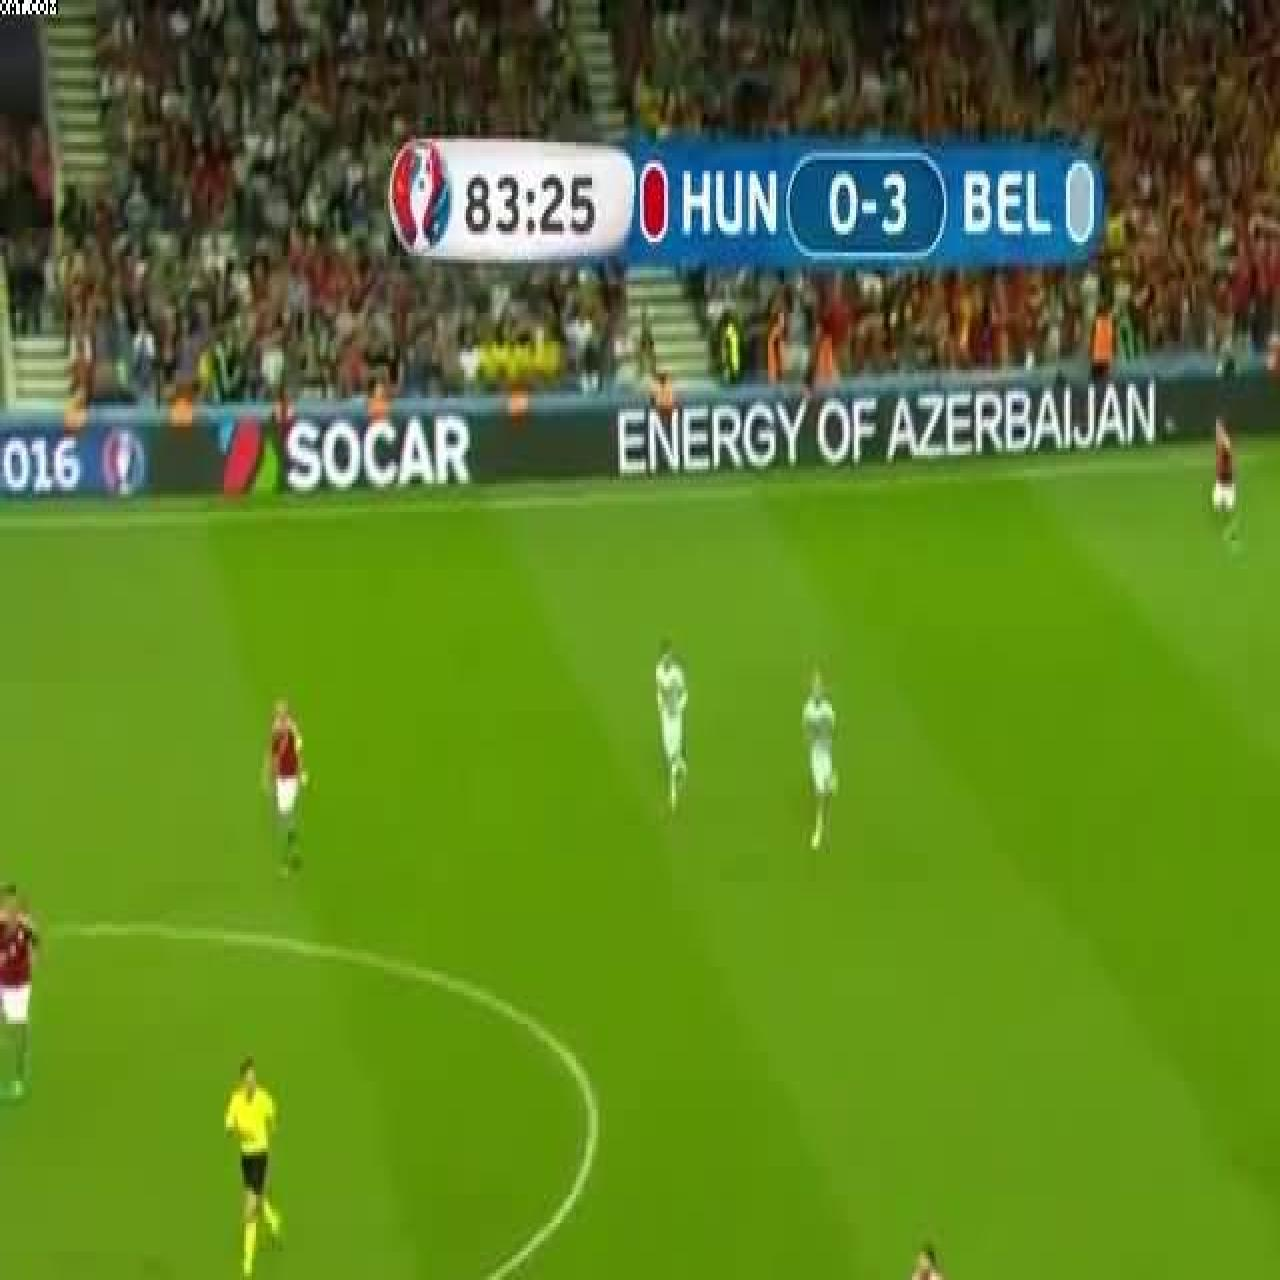football: (224, 1056, 284, 1280), (262, 690, 308, 874), (0, 875, 36, 1095), (804, 670, 840, 852), (655, 633, 687, 809), (1209, 404, 1241, 551), (906, 1244, 950, 1280)
